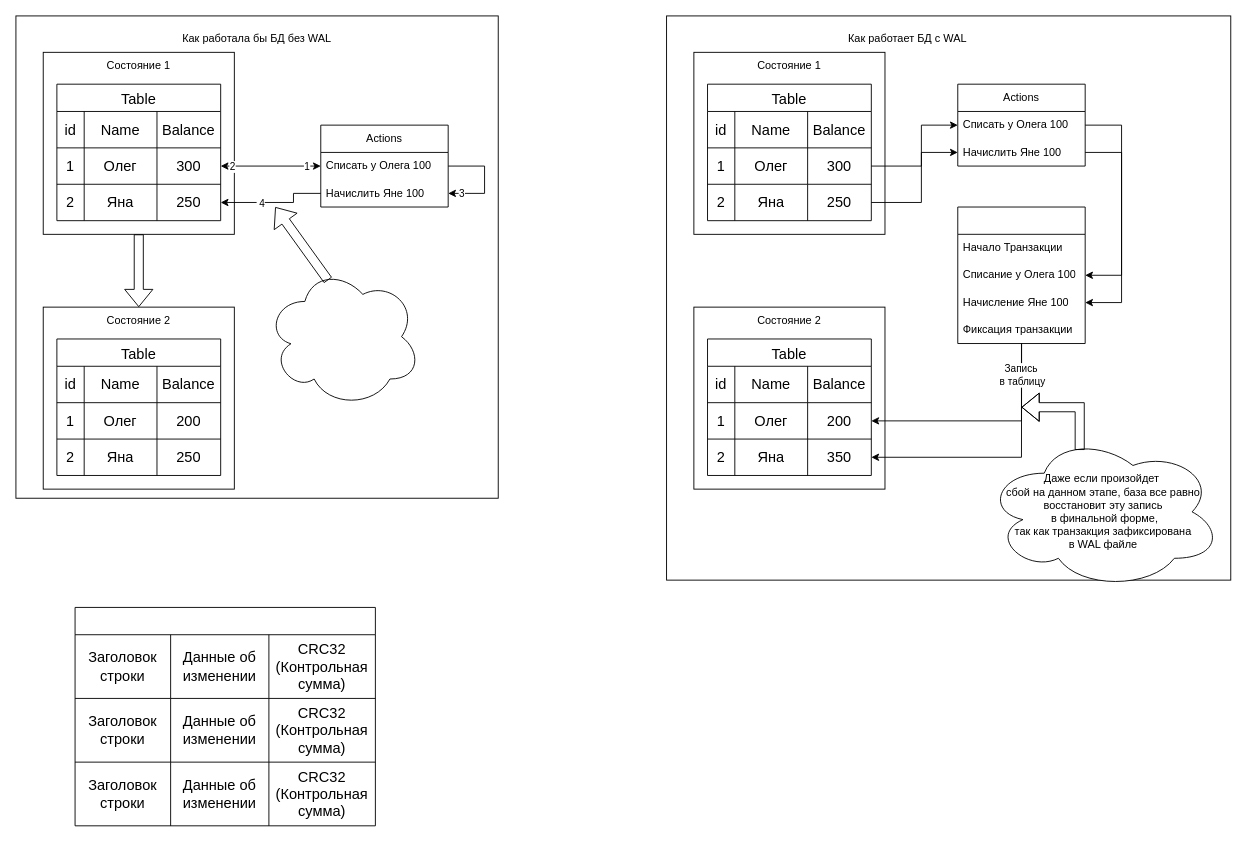
The diagram is 1247 pixels wide and 842 high, and some of its shapes have lost their labels. Here are the shapes that lost their labels. From the top down, the box of each, then its label:
(957, 206, 1085, 344): WAL файл на диске
(265, 265, 421, 407): СБОЙ на 4 шаге с успешной фиксацией 1 и 2 шага (упала БД, а потом ее подняли)
(74, 607, 375, 826): Внутреннее устройство WAL (Упрощенное)
